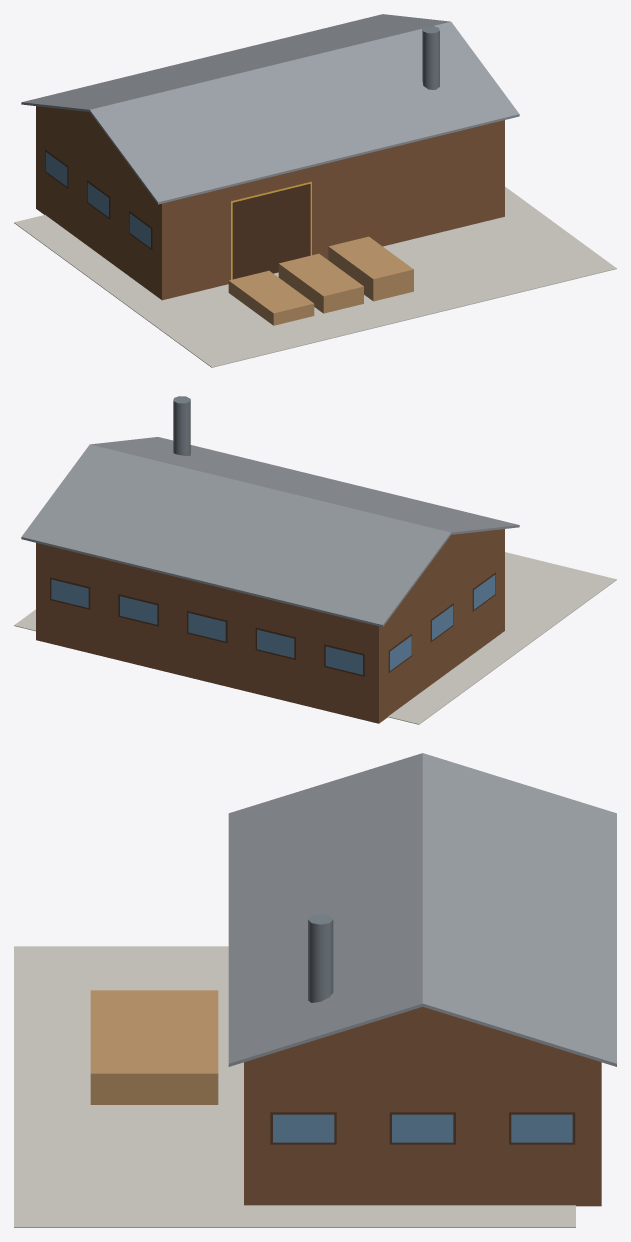
Rendered from menuiserie_village.glb.
The picture shows the model from 3 angles, top to bottom: view 1: azimuth 30°, elevation 25°; view 2: azimuth 150°, elevation 25°; view 3: azimuth 270°, elevation 25°; orthographic projection. The views are drawn at different scales.
Visible parts, largest first — view 1: menuiserie_village; view 2: menuiserie_village; view 3: menuiserie_village.
Boxes of the visible parts, x1=… form: menuiserie_village: x1=14, y1=14, x2=616, y2=367; menuiserie_village: x1=14, y1=396, x2=616, y2=724; menuiserie_village: x1=14, y1=753, x2=616, y2=1227.
Size of the model in its own units: 26 by 11.1 by 23.6.
1 material, 1 textured.
